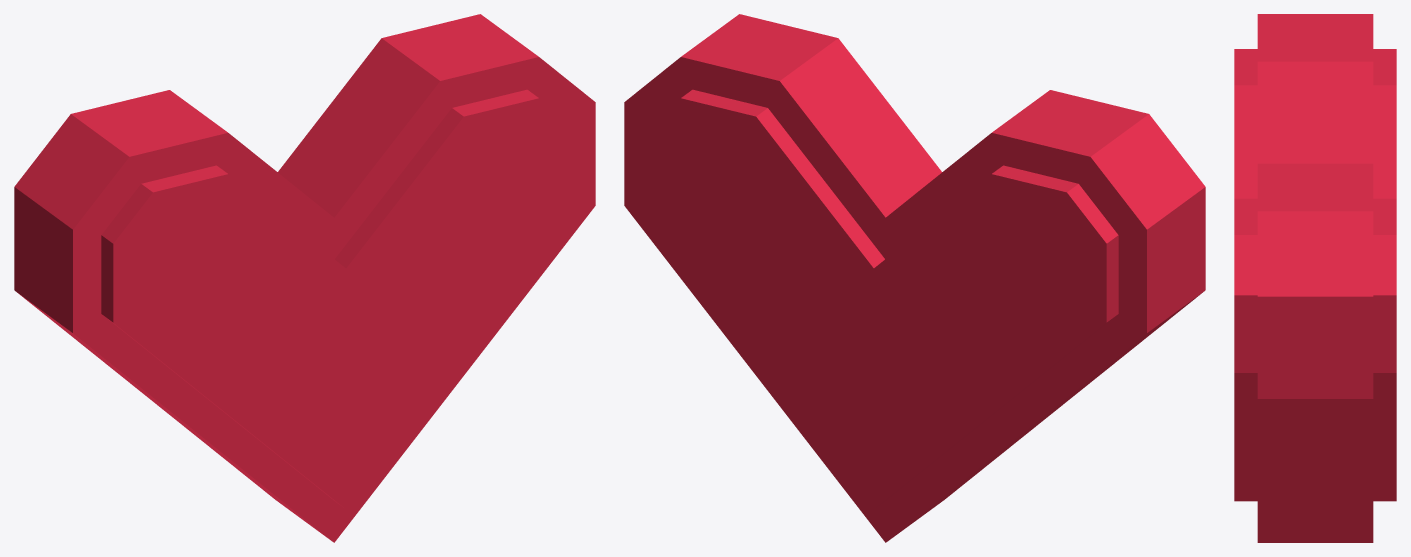
The model's file is Heart.fbx.
The picture shows the model from 3 angles, left to right: view 1: azimuth 30°, elevation 25°; view 2: azimuth 150°, elevation 25°; view 3: azimuth 270°, elevation 25°; orthographic projection.
Visible parts, largest first — view 1: Heart; view 2: Heart; view 3: Heart.
Boxes of the visible parts, <box> form: Heart: <box>14,14,595,542</box>; Heart: <box>624,14,1205,542</box>; Heart: <box>1234,14,1396,542</box>.
Size of the model in its own units: 53.1 by 42.34 by 14.47.
